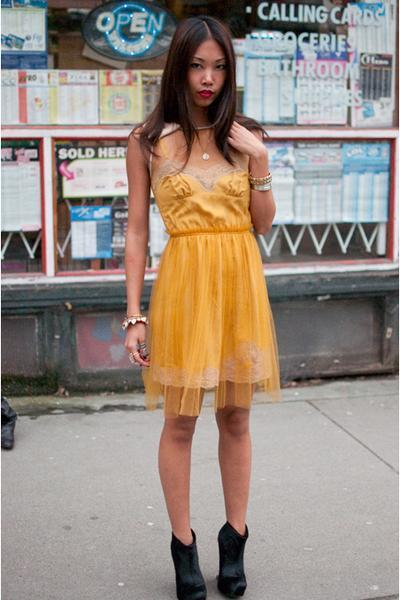dress: (142, 151, 282, 419)
shoe: (171, 521, 248, 599)
